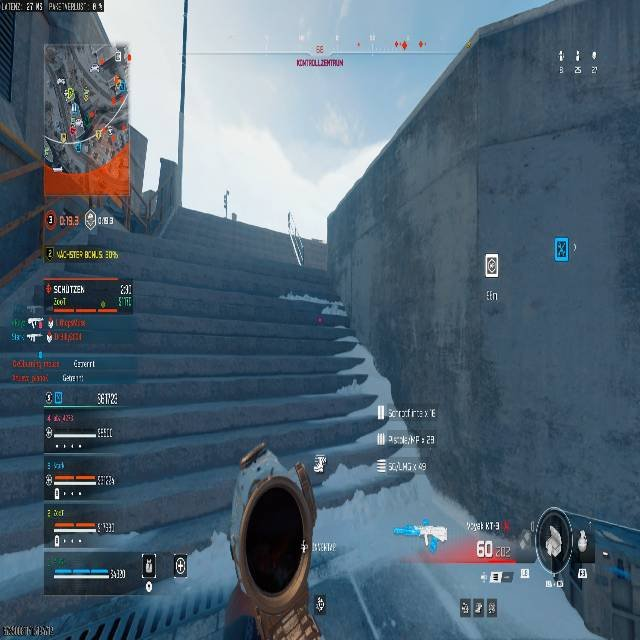head: (237, 489, 309, 592)
